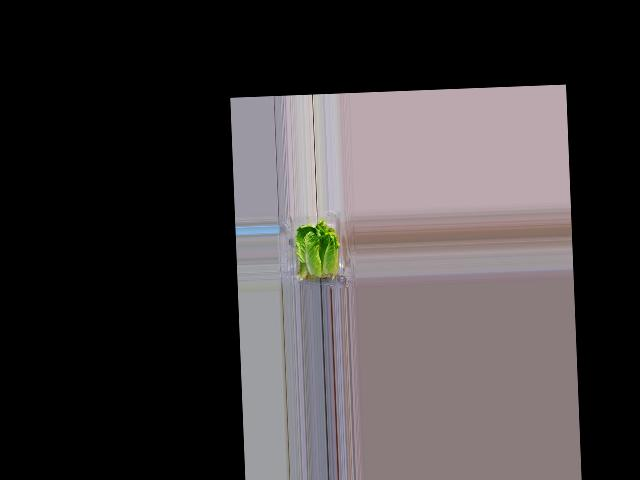lettuce: (295, 219, 340, 277)
